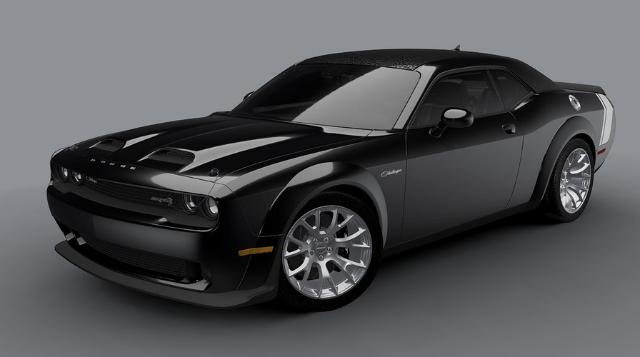dodge: (46, 44, 616, 310)
